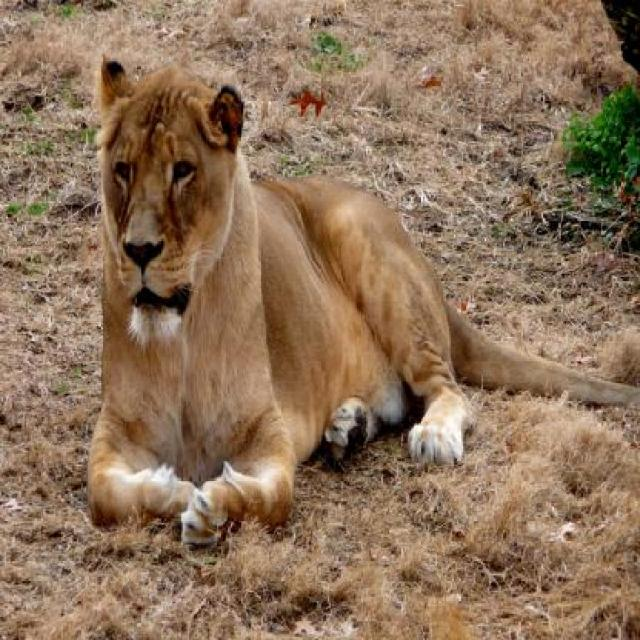Lion: (40, 48, 618, 584)
